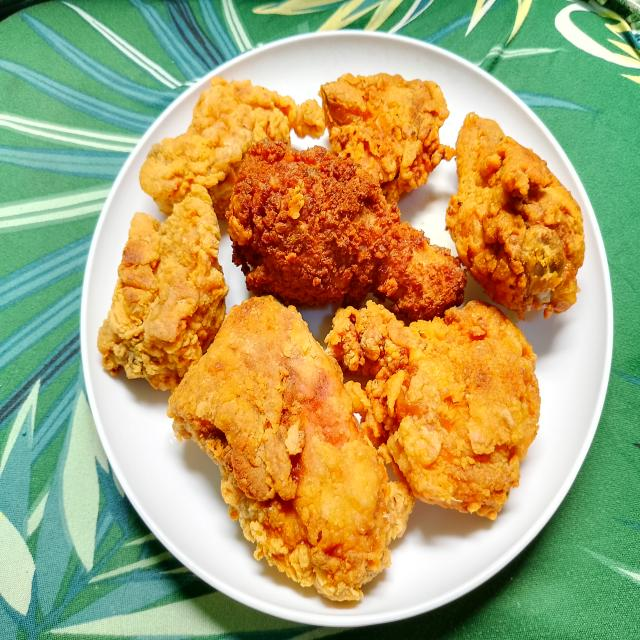Chicken -Fried Chicken-: (202, 302, 392, 594), (334, 296, 550, 517), (233, 142, 456, 298), (444, 108, 586, 317), (98, 198, 233, 398), (150, 71, 304, 210), (322, 62, 448, 205)
